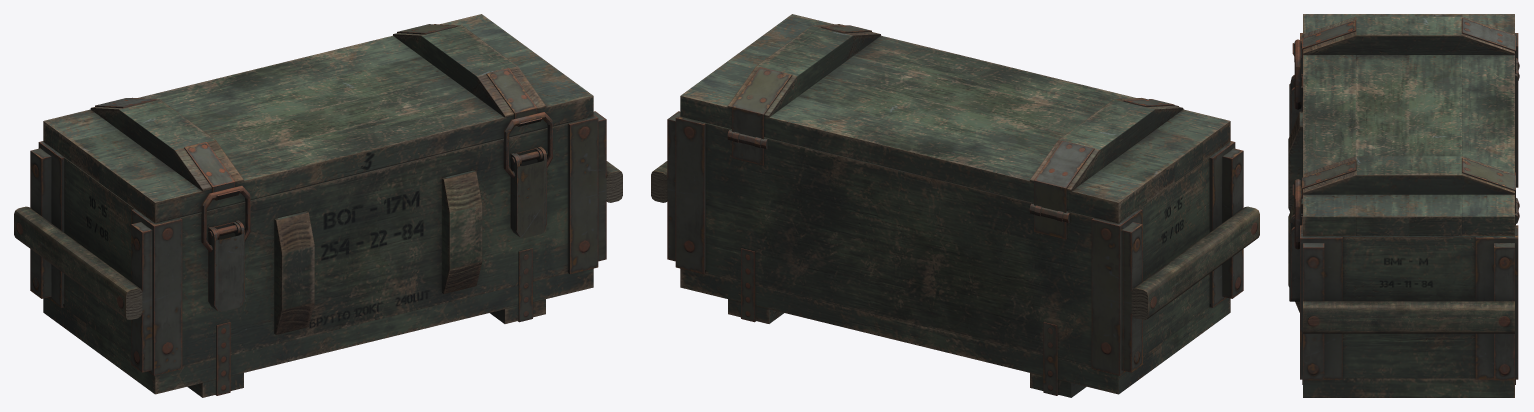
File: military_box_0.glb
The picture shows the model from 3 angles, left to right: view 1: azimuth 30°, elevation 25°; view 2: azimuth 150°, elevation 25°; view 3: azimuth 270°, elevation 25°; orthographic projection. The views are drawn at different scales.
Size of the model in its own units: 5.13 by 2.26 by 2.18.
Materials: 3 (3 with a texture image).
